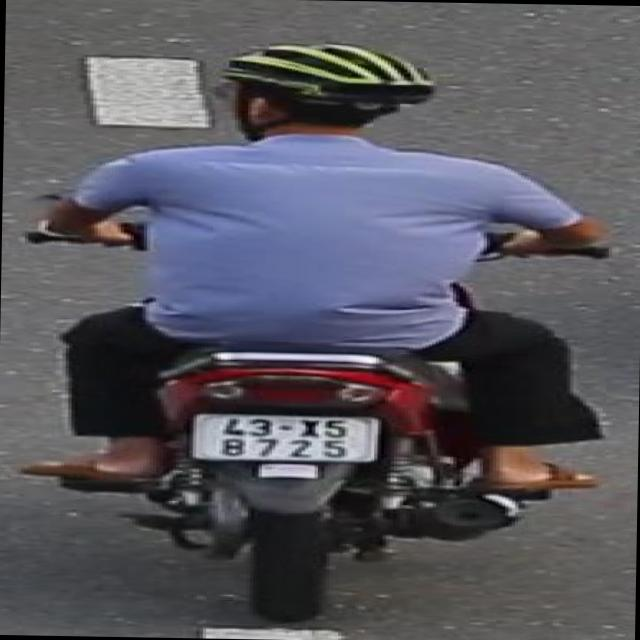LP: (179, 406, 388, 464)
helmet: (218, 34, 440, 153)
